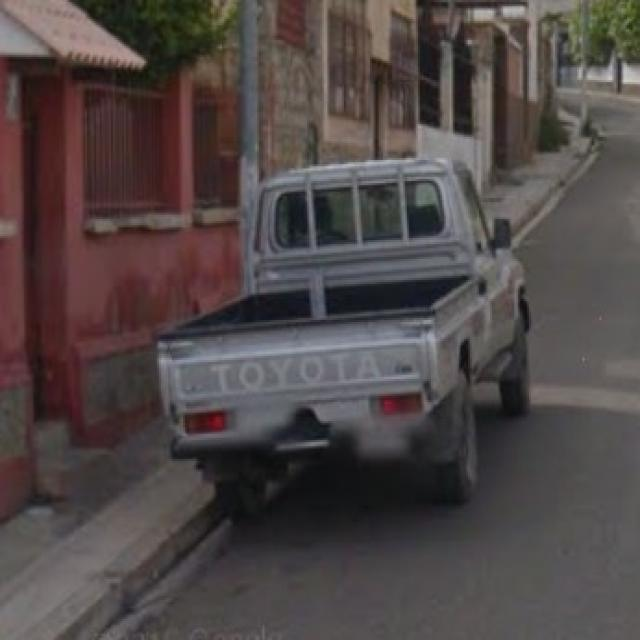cars: (158, 167, 538, 512)
